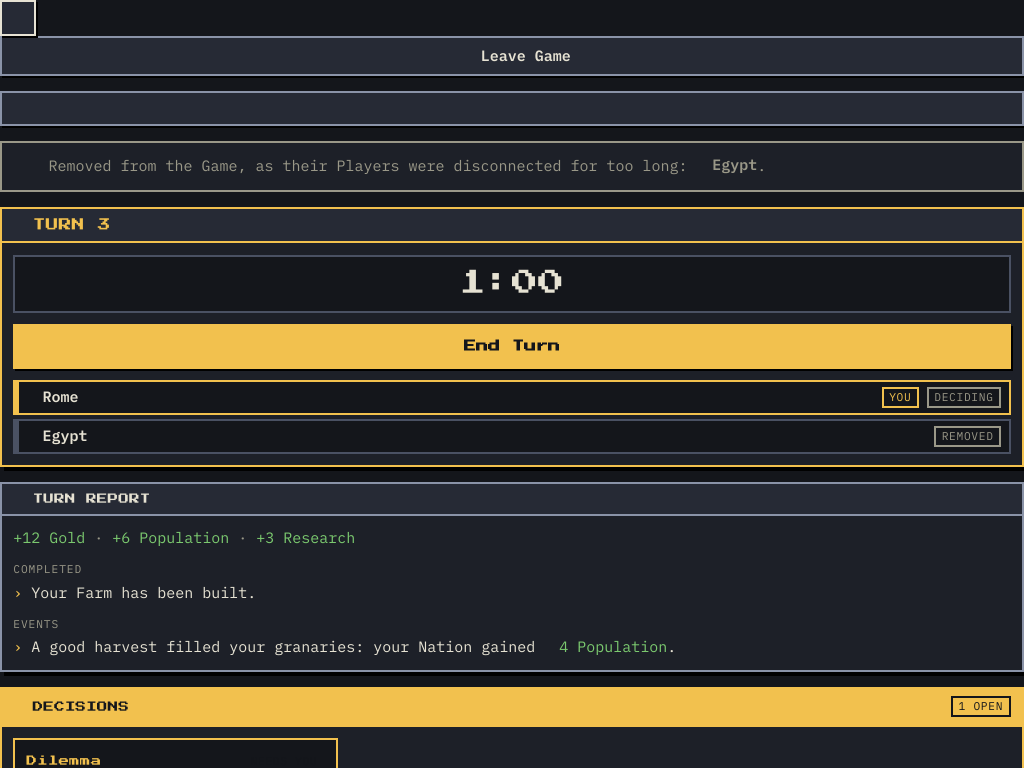
it: Messages drawer › cannot send to a Removed Nation
What coordinates should you click on to do the following:
click the button named "Messages"
I would click on:
 (512, 108)
Its box is [0,90,1023,126].
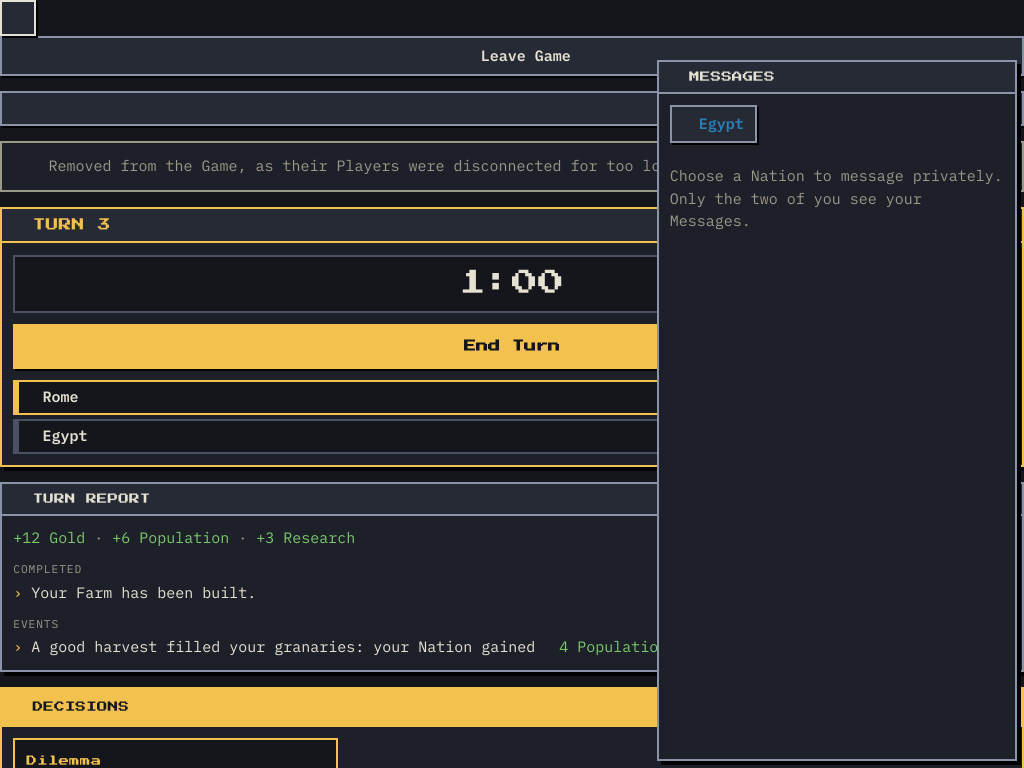
What coordinates should you click on to do the following:
click the button "Egypt"
I would click on:
 (713, 124)
Its box is [670,105,757,143].
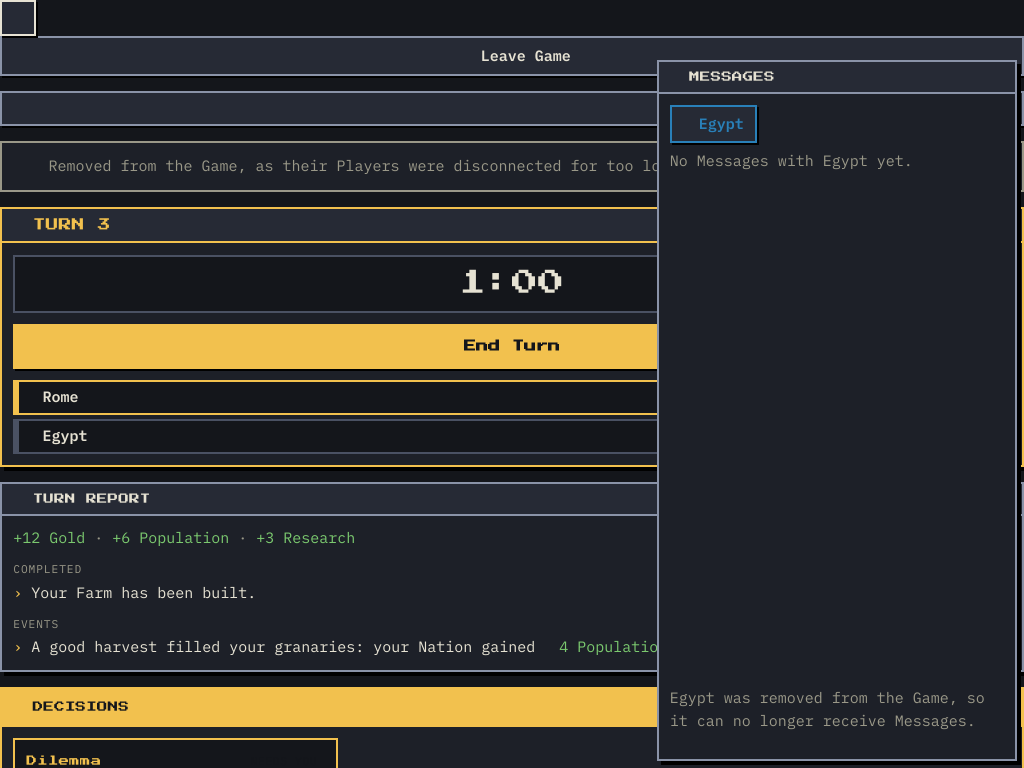
Check: the text "Egypt was removed from the Game" is shown, box [670,688,985,730]
